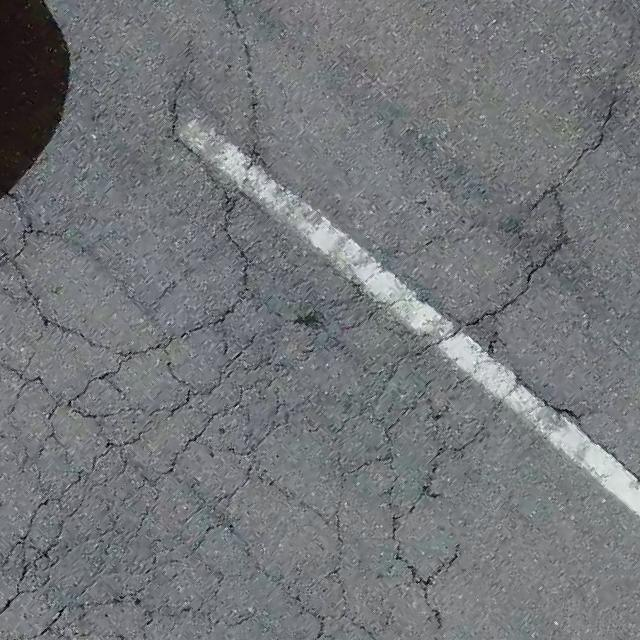GRIETA: (169, 65, 238, 235), (526, 387, 639, 482), (223, 0, 260, 195), (557, 93, 619, 187)
PIEL DE COCODRILO: (0, 178, 569, 639)
